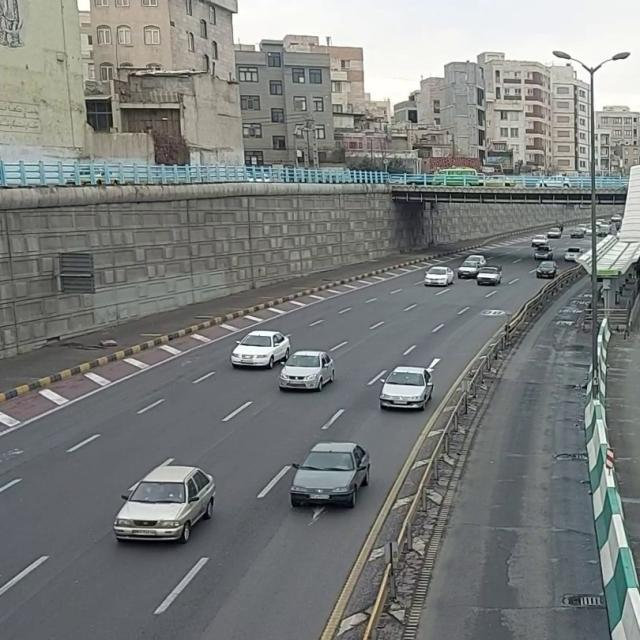Car: (114, 466, 216, 546), (289, 440, 373, 511), (380, 365, 438, 413), (232, 329, 288, 373), (280, 351, 340, 391), (424, 266, 454, 288), (476, 265, 504, 287), (536, 261, 560, 281)
